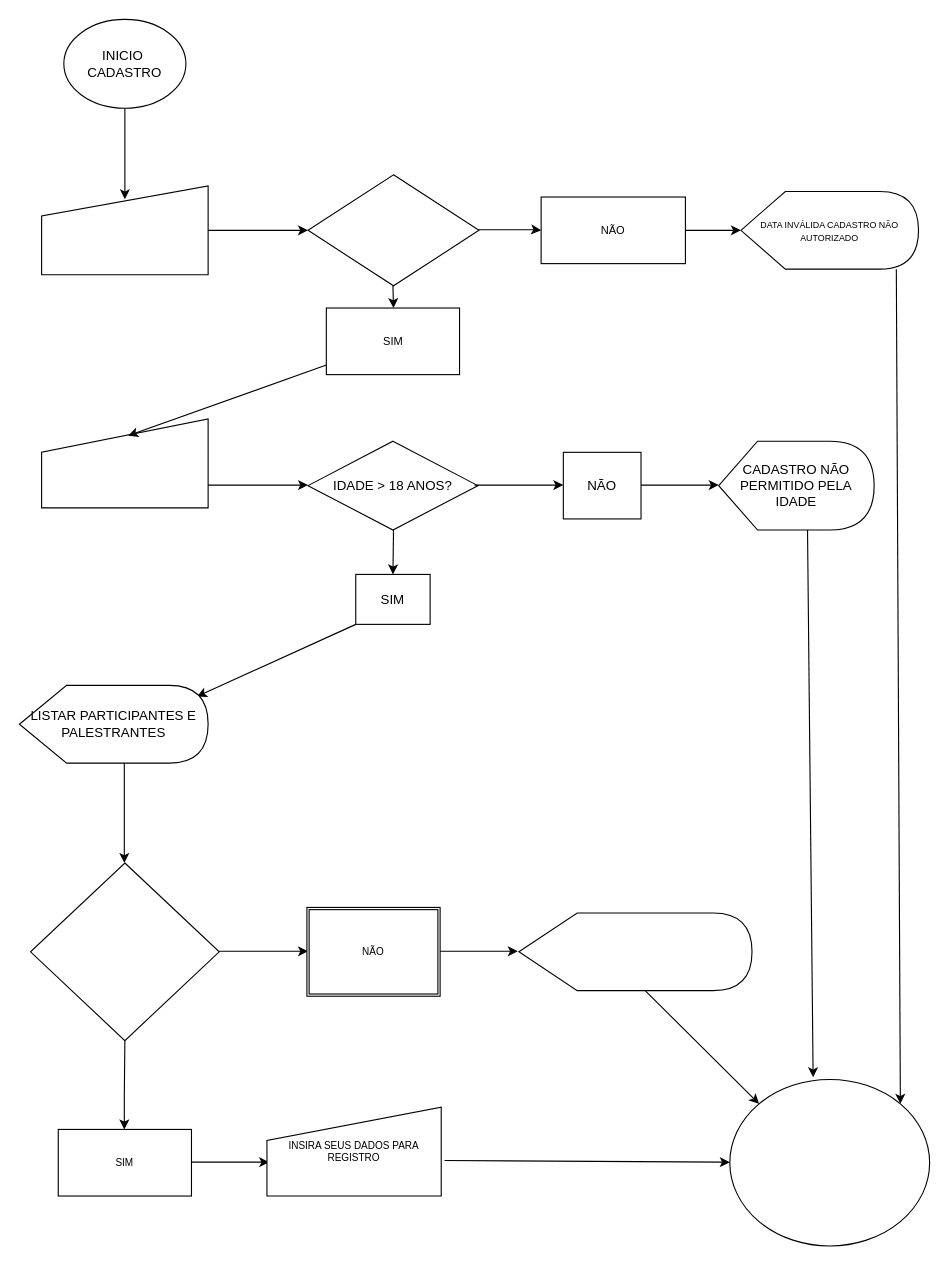
The diagram is 949 pixels wide and 1265 high, and some of its shapes have lost their labels. The shapes that lost their labels are listed below. From the top down, each one's centre as x and y in pixels, then its label:
At pixel 124 230: "INSIRA A DATA DO EVENTO".
At pixel 393 230: "DATA > DATA.ATUAL ?".
At pixel 124 463: "INSIRA SUA IDADE".
At pixel 124 951: "QUANTIDADE DE INSCRITOS <100?".
At pixel 635 951: "AS VAGAS PARA ESTE EVENTO ESTÃO ESGOTADAS".
At pixel 829 1162: "FIM".
